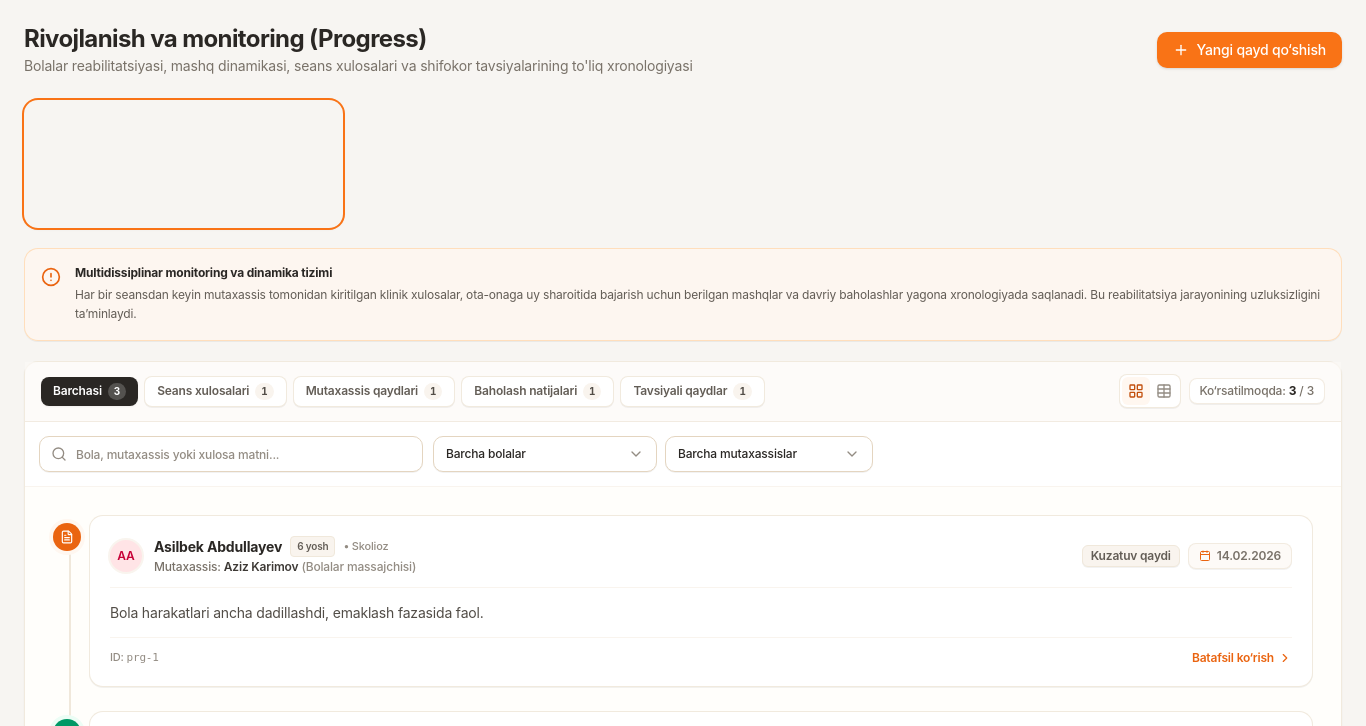
Test case: ProgressPage Component › opens event details modal when clicking an event card
Click the text "Bola harakatlari ancha dadillashdi, emaklash fazasida faol." at (297, 613), box [110,604,484,621]
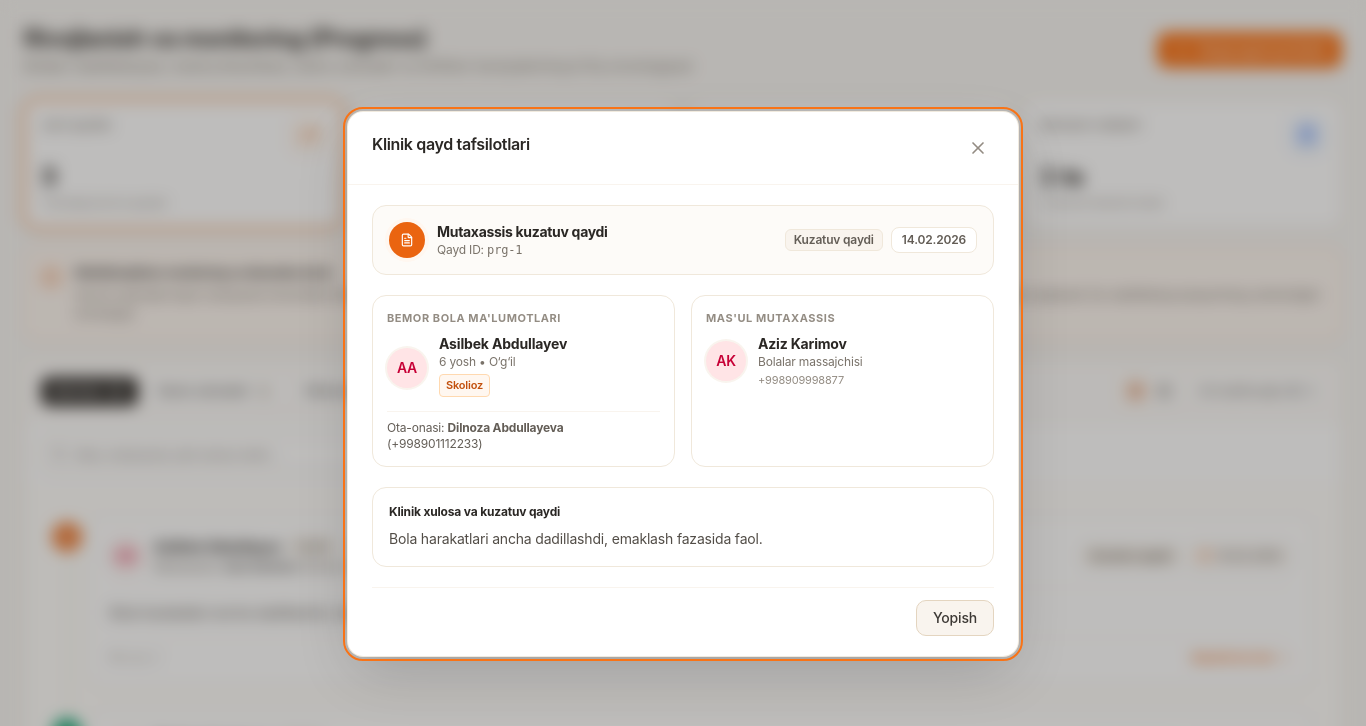
Expected: the heading "Klinik qayd tafsilotlari" is shown, [372,132,530,156]
Expected: the text "Klinik xulosa va kuzatuv qaydi" is shown, [389,504,560,519]
